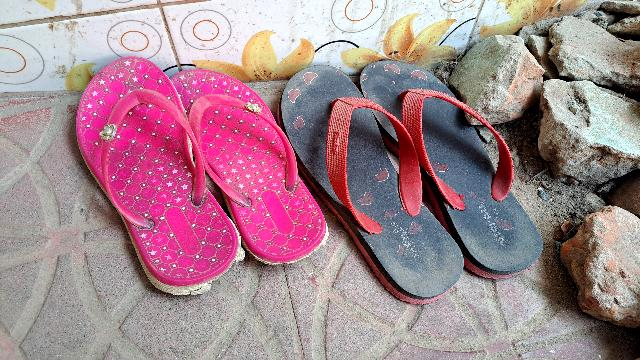sandal: (342, 9, 555, 300), (257, 24, 476, 304), (60, 46, 246, 300), (159, 29, 337, 280)
